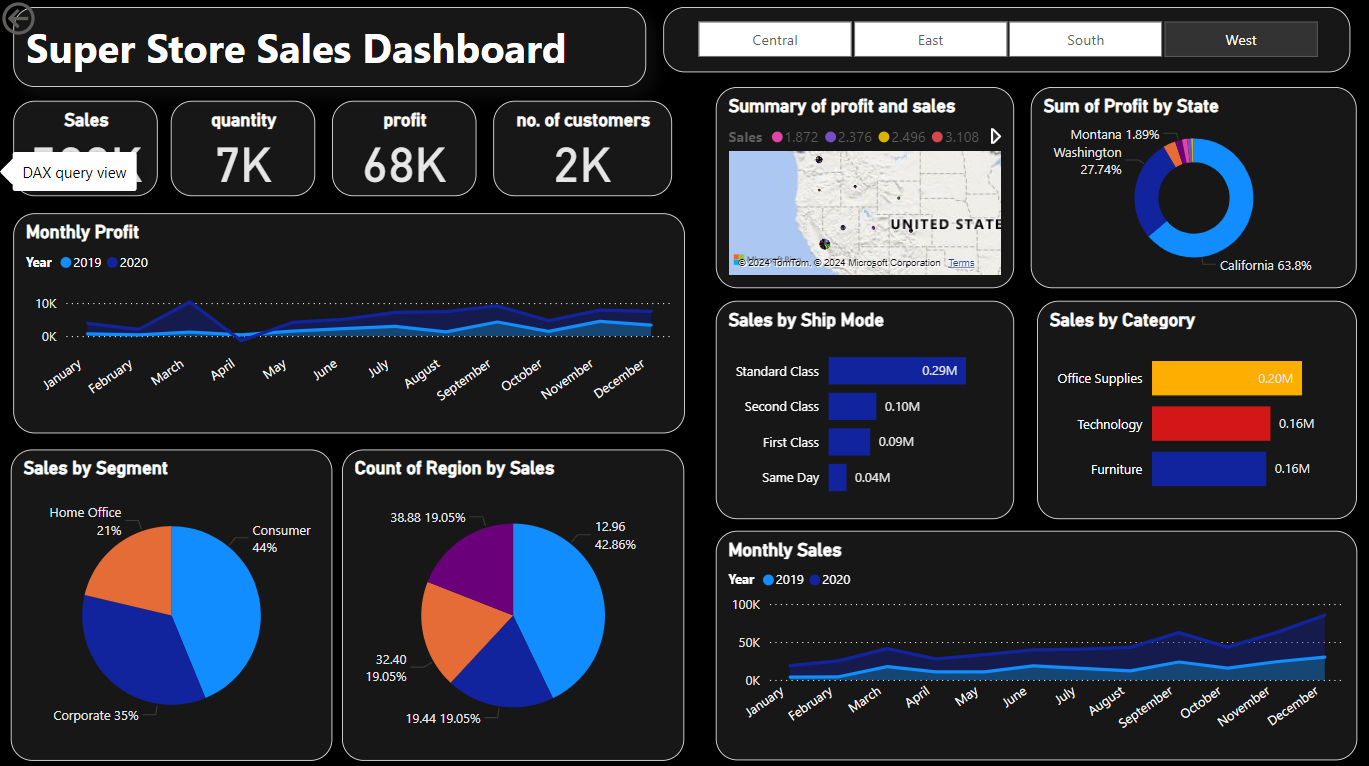

Layout of this report page (visuals, bound fields, positions):
{"tool":"powerbi","page":{"name":"Page 1","canvas":[1280,720],"ordinal":0},"visuals":[{"type":"barChart","title":"Sales by Category","fields":{"Category":["Sheet1.Category"],"Y":["Sum(Sheet1.Sales)"]},"box":[967.4,282.7,297.8,203.1],"z":0},{"type":"map","title":"Summary of profit and sales ","fields":{"Category":["Sheet1.State"],"Series":["Sheet1.Sales"],"Size":["Sum(Sheet1.Profit)"]},"box":[668.6,83.7,277.9,187.2],"z":1000},{"type":"barChart","title":" Sales by Ship Mode","fields":{"Category":["Sheet1.Ship Mode","Sheet1.Category"],"Y":["Sum(Sheet1.Sales)"]},"box":[668.6,282.6,277.9,203.5],"z":2000},{"type":"stackedAreaChart","title":"Monthly Profit","fields":{"Category":["Sheet1.Order Date.Variation.Date Hierarchy.Month","Sheet1.Order Date.Variation.Date Hierarchy.Day"],"Series":["Sheet1.Order Date.Variation.Date Hierarchy.Year"],"Y":["Sum(Sheet1.Profit)"]},"box":[15.1,201.2,624.4,204.7],"z":3000},{"type":"pieChart","title":"Sales by Segment","fields":{"Category":["Sheet1.Segment"],"Y":["Sum(Sheet1.Sales)"]},"box":[12.3,421.3,299.1,289.5],"z":4000},{"type":"slicer","fields":{"Values":["Sheet1.Region"]},"box":[619.8,9.3,639.5,60.5],"z":5000},{"type":"textbox","box":[15.1,9.6,588.7,74.1],"z":6000},{"type":"card","title":"Sales","fields":{"Values":["Sum(Sheet1.Sales)"]},"box":[15.1,96.1,134.5,89.2],"z":7000},{"type":"card","title":"quantity ","fields":{"Values":["Sum(Sheet1.Quantity)"]},"box":[161.9,96.1,134.5,89.2],"z":8000},{"type":"card","title":"profit","fields":{"Values":["Sum(Sheet1.Profit)"]},"box":[311.5,96.1,134.5,89.2],"z":9000},{"type":"card","title":"no. of customers ","fields":{"Values":["CountNonNull(Sheet1.Customer ID)"]},"box":[461.1,96.1,166,89.2],"z":10000},{"type":"pieChart","fields":{"Category":["Sheet1.Sales"],"Y":["CountNonNull(Sheet1.Region)"]},"box":[321.1,421.3,318.4,289.5],"z":11000},{"type":"actionButton","box":[0,0,100,40],"z":12000},{"type":"donutChart","fields":{"Y":["Sum(Sheet1.Profit)"],"Category":["Sheet1.State"]},"box":[961.6,83.7,303.5,187.2],"z":13000},{"type":"stackedAreaChart","title":"Monthly Sales","fields":{"Category":["Sheet1.Order Date.Variation.Date Hierarchy.Month","Sheet1.Order Date.Variation.Date Hierarchy.Day"],"Series":["Sheet1.Order Date.Variation.Date Hierarchy.Year"],"Y":["Sum(Sheet1.Sales)"]},"box":[669,496.5,596.7,213.7],"z":14000}]}

Visuals, with their boxes in screenshot pixels (x1, y1, x2, y2):
"Sales by Category" barChart: [1051,325,1352,531]
"Summary of profit and sales " map: [748,124,1030,314]
" Sales by Ship Mode" barChart: [748,325,1030,531]
"Monthly Profit" stackedAreaChart: [87,243,719,450]
"Sales by Segment" pieChart: [84,466,387,759]
slicer - Sheet1.Region: [699,49,1347,110]
textbox: [87,49,683,124]
"Sales" card: [87,137,223,227]
"quantity " card: [235,137,371,227]
"profit" card: [387,137,523,227]
"no. of customers " card: [538,137,706,227]
pieChart - Sheet1.Sales x CountNonNull(Sheet1.Region): [396,466,719,759]
actionButton: [71,39,173,80]
donutChart - Sum(Sheet1.Profit) x Sheet1.State: [1045,124,1352,314]
"Monthly Sales" stackedAreaChart: [749,542,1353,758]
